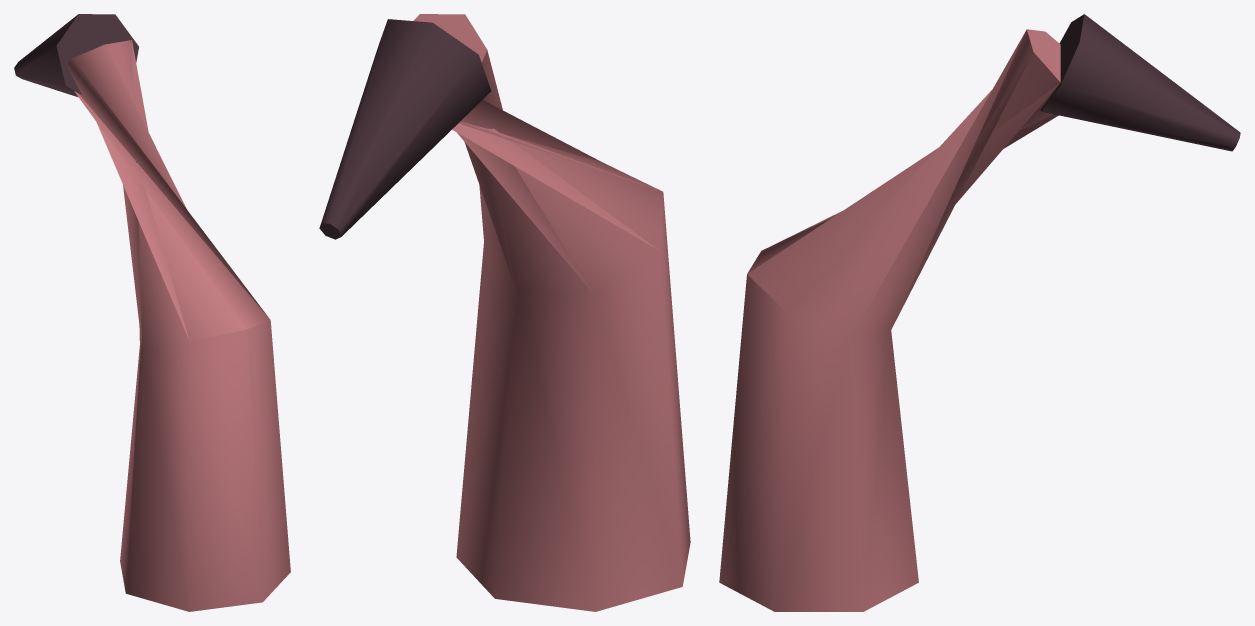
Rendered from trispike_appendage_2.obj.
3 views of the same model, side by side, from view 1: azimuth 30°, elevation 25°; view 2: azimuth 150°, elevation 25°; view 3: azimuth 270°, elevation 25° (orthographic). The views are drawn at different scales.
Parts seen in each view (by area): view 1: source_component_000, source_component_001; view 2: source_component_000, source_component_001; view 3: source_component_000, source_component_001.
Part boxes in pixels (x1,y1,x2,y2): source_component_000: (66, 40, 290, 611); source_component_001: (14, 14, 138, 96); source_component_000: (413, 14, 690, 611); source_component_001: (319, 19, 491, 239); source_component_000: (719, 29, 1060, 611); source_component_001: (1040, 14, 1240, 151).
Size of the model in its own units: 0.165 by 0.5179 by 0.4419.
